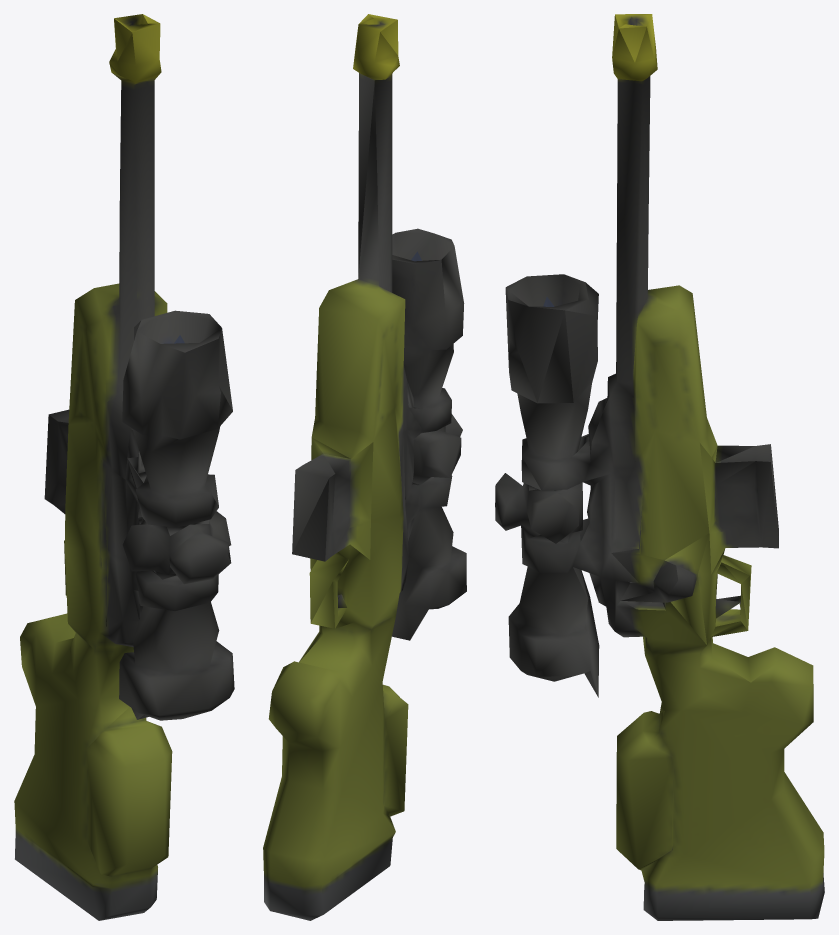
Rendered from widow.glb.
The picture shows the model from 3 angles, left to right: view 1: azimuth 30°, elevation 25°; view 2: azimuth 150°, elevation 25°; view 3: azimuth 270°, elevation 25°; orthographic projection. The views are drawn at different scales.
Visible parts, largest first — view 1: widow, part_mag; view 2: widow, part_mag; view 3: widow, part_mag, part_bolt.
Boxes of the visible parts, left/top/right/bottom form: widow: left=14, top=14, right=234, bottom=920; part_mag: left=44, top=409, right=69, bottom=513; widow: left=263, top=14, right=466, bottom=920; part_mag: left=292, top=437, right=373, bottom=561; widow: left=495, top=14, right=824, bottom=920; part_mag: left=700, top=443, right=778, bottom=573; part_bolt: left=611, top=533, right=709, bottom=644.
Size of the model in its own units: 0.1392 by 1.15 by 0.3846.
1 material, 1 textured.
